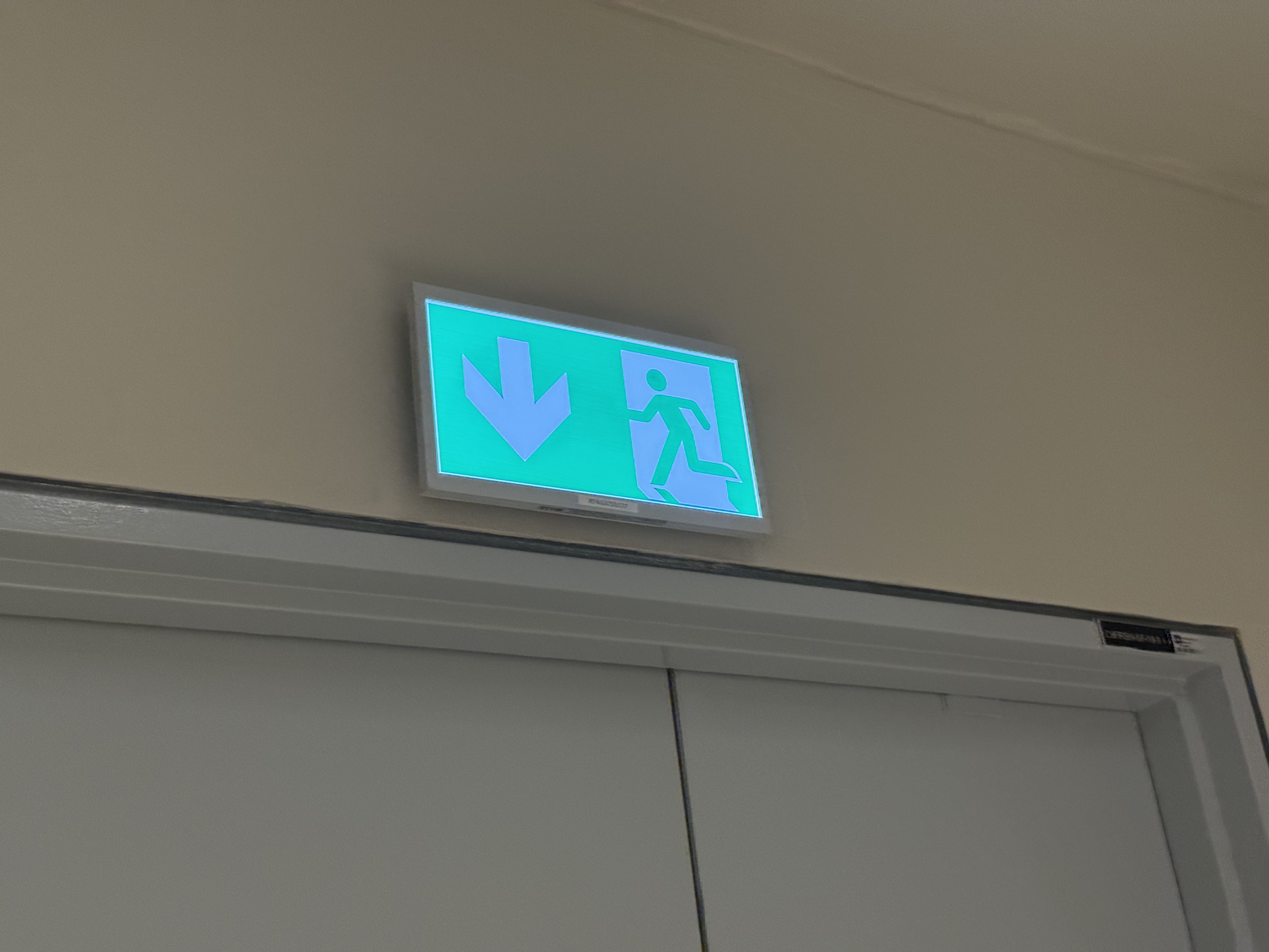emergency_exit: (406, 278, 773, 540)
